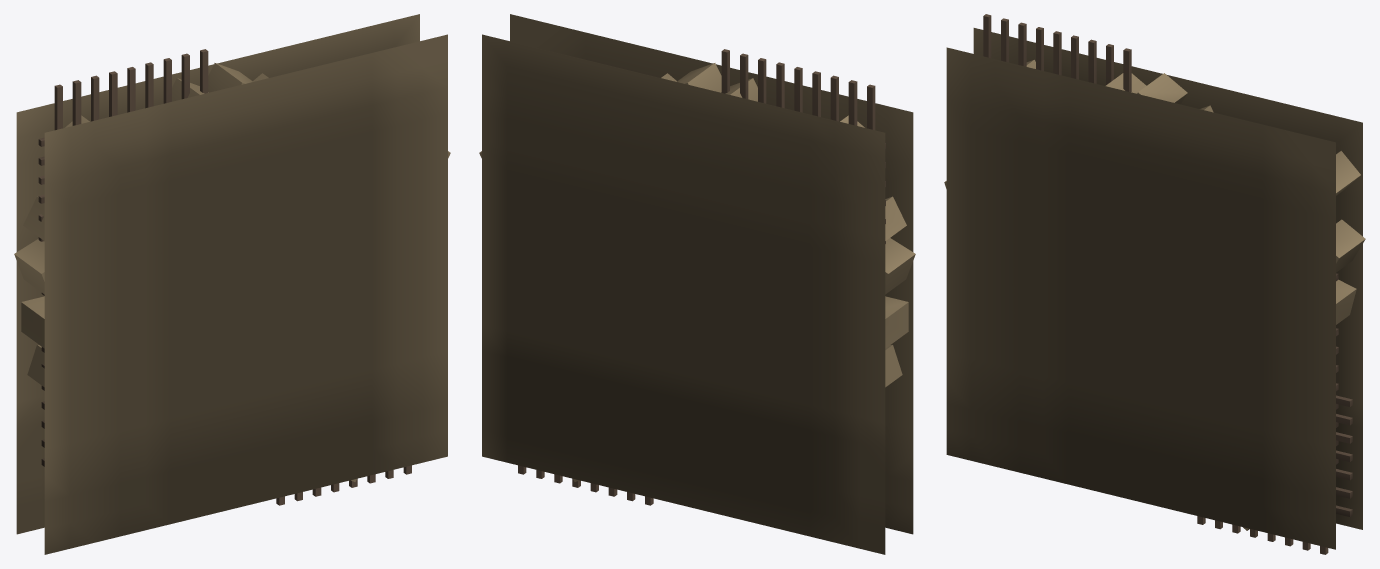
The model's file is bld.jp_house.wall_panel.glb.
3 views of the same model, side by side, from view 1: azimuth 30°, elevation 25°; view 2: azimuth 150°, elevation 25°; view 3: azimuth 330°, elevation 25° (orthographic). The views are drawn at different scales.
Parts seen in each view (by area): view 1: v0_LOD0, v3_LOD0, v2_LOD0; view 2: v0_LOD0, v3_LOD0, v2_LOD0; view 3: v0_LOD0, v3_LOD0, v2_LOD0.
Part boxes in pixels (left/top/right/bottom): v0_LOD0: left=16, top=14, right=447, bottom=554; v3_LOD0: left=23, top=49, right=450, bottom=505; v2_LOD0: left=14, top=63, right=268, bottom=387; v0_LOD0: left=482, top=14, right=913, bottom=554; v3_LOD0: left=479, top=49, right=906, bottom=505; v2_LOD0: left=661, top=63, right=915, bottom=387; v0_LOD0: left=946, top=28, right=1362, bottom=549; v3_LOD0: left=983, top=14, right=1365, bottom=554; v2_LOD0: left=944, top=73, right=1213, bottom=188.
Size of what is drawn, in the model's own units: 1.01 by 1.12 by 0.12.
